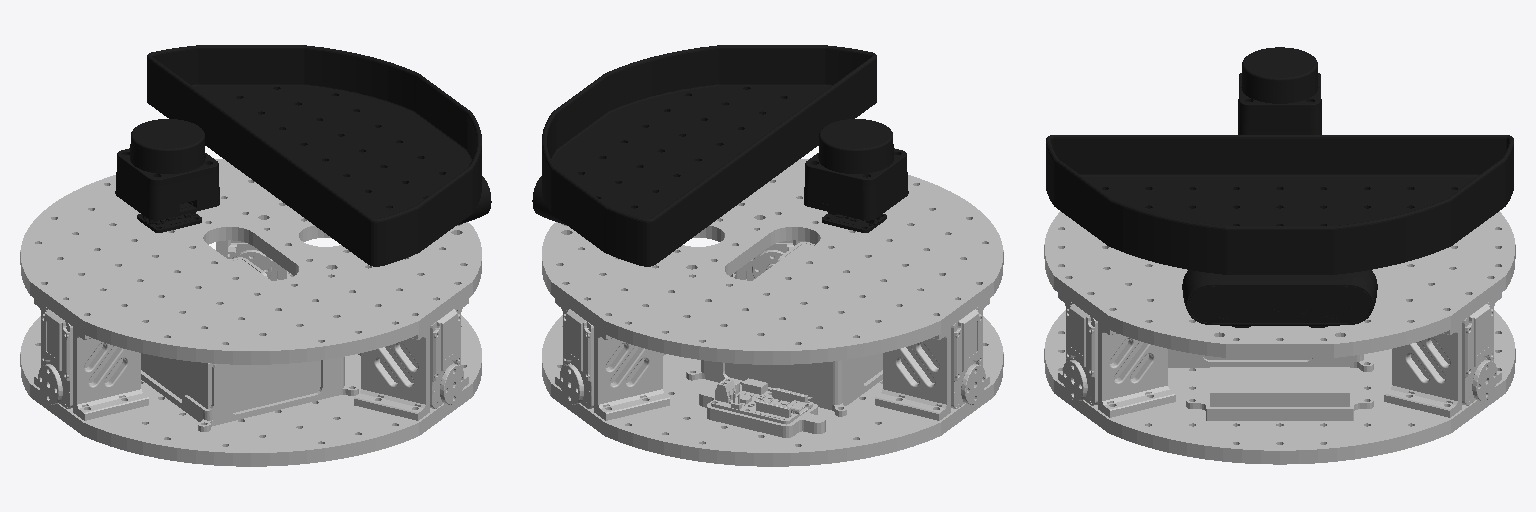
robot.urdf — lekiwi:
<?xml version="1.0" ?>
<!-- =================================================================================== -->
<!-- |    This document was autogenerated by xacro from base/base.urdf.xacro           | -->
<!-- |    EDITING THIS FILE BY HAND IS NOT RECOMMENDED                                 | -->
<!-- =================================================================================== -->
<robot name="lekiwi">
  <!-- camera sensor interfaces only when streaming is enabled -->
  <!-- Fusion mode: NDOF, NDOF_FMC_OFF, IMUPLUS -->
  <!-- [0-254]; 0 = disable proportional ACC -->
  <!-- Base operating mode -->
  <!-- Velocity mode -->
  <!-- Max hardware velocity in steps/s -->
  <!-- [0-254] -->
  <!-- 120° between wheels -->
  <!-- N⋅m (30 kgf⋅cm for STS3215) -->
  <!-- Omnidirectional Kinematics Calculations -->
  <!-- For 3-wheel omni drive: ω_i = (-sin(θ_i)·v_x + cos(θ_i)·v_y + R·ω_z) / r -->
  <!-- ROS 2 CONTROL -->
  <!-- System interface -->
  <ros2_control name="lekiwi_base" type="system">
    <hardware>
      <plugin>sts_hardware_interface/STSHardwareInterface</plugin>
      <!-- Serial communication parameters -->
      <param name="serial_port">/dev/ttySERVO</param>
      <param name="baud_rate">1000000</param>
      <param name="use_sync_write">true</param>
      <param name="enable_mock_mode">true</param>
      <!-- Proportional ACC: scale per-wheel acceleration so all wheels finish ramping in equal time -->
      <param name="proportional_acc_max">25</param>
    </hardware>
    <!-- Left wheel joint (Motor ID 7) -->
    <joint name="left_wheel_joint">
      <param name="motor_id">7</param>
      <param name="operating_mode">1</param>
      <!-- Motor-specific, model-dependent parameter (per joint so different STS models can share this bus) -->
      <param name="max_velocity_steps">3400</param>
      <param name="internal_max_vel">254</param>
      <param name="internal_max_acc">254</param>
      <param name="internal_acc_coeff">100</param>
      <param name="internal_control_period">20</param>
      <command_interface name="velocity"/>
      <state_interface name="position"/>
      <state_interface name="velocity"/>
      <state_interface name="effort"/>
      <state_interface name="voltage"/>
      <state_interface name="temperature"/>
      <state_interface name="current"/>
      <state_interface name="is_moving"/>
    </joint>
    <!-- Back wheel joint (Motor ID 8) -->
    <joint name="back_wheel_joint">
      <param name="motor_id">8</param>
      <param name="operating_mode">1</param>
      <!-- Motor-specific, model-dependent parameter (per joint so different STS models can share this bus) -->
      <param name="max_velocity_steps">3400</param>
      <param name="internal_max_vel">254</param>
      <param name="internal_max_acc">254</param>
      <param name="internal_acc_coeff">100</param>
      <param name="internal_control_period">20</param>
      <command_interface name="velocity"/>
      <state_interface name="position"/>
      <state_interface name="velocity"/>
      <state_interface name="effort"/>
      <state_interface name="voltage"/>
      <state_interface name="temperature"/>
      <state_interface name="current"/>
      <state_interface name="is_moving"/>
    </joint>
    <!-- Right wheel joint (Motor ID 9) -->
    <joint name="right_wheel_joint">
      <param name="motor_id">9</param>
      <param name="operating_mode">1</param>
      <!-- Motor-specific, model-dependent parameter (per joint so different STS models can share this bus) -->
      <param name="max_velocity_steps">3400</param>
      <param name="internal_max_vel">254</param>
      <param name="internal_max_acc">254</param>
      <param name="internal_acc_coeff">100</param>
      <param name="internal_control_period">20</param>
      <command_interface name="velocity"/>
      <state_interface name="position"/>
      <state_interface name="velocity"/>
      <state_interface name="effort"/>
      <state_interface name="voltage"/>
      <state_interface name="temperature"/>
      <state_interface name="current"/>
      <state_interface name="is_moving"/>
    </joint>
  </ros2_control>
  <ros2_control name="lekiwi_imu" type="sensor">
    <hardware>
      <plugin>bno055_hardware_interface/BNO055HardwareInterface</plugin>
      <param name="i2c_bus">1</param>
      <!-- I2C bus number (default: 1 → /dev/i2c-1) -->
      <param name="i2c_addr">28</param>
      <!-- I2C address in hex, no 0x prefix (default: 28 = 0x28) -->
      <param name="axis_remap">P1</param>
      <!-- Axis placement config: P0-P7 (default: P1) -->
      <param name="sensor_mode">NDOF</param>
      <!-- Fusion mode: NDOF, NDOF_FMC_OFF, IMUPLUS (default: NDOF) -->
      <param name="enable_mock_mode">true</param>
      <!-- Reuse the system-level mock flag -->
    </hardware>
    <sensor name="bno055">
      <!-- Orientation (quaternion, unit norm) -->
      <state_interface name="orientation.x"/>
      <state_interface name="orientation.y"/>
      <state_interface name="orientation.z"/>
      <state_interface name="orientation.w"/>
      <!-- Angular velocity (rad/s) -->
      <state_interface name="angular_velocity.x"/>
      <state_interface name="angular_velocity.y"/>
      <state_interface name="angular_velocity.z"/>
      <!-- Linear acceleration (m/s²), gravity-compensated -->
      <state_interface name="linear_acceleration.x"/>
      <state_interface name="linear_acceleration.y"/>
      <state_interface name="linear_acceleration.z"/>
    </sensor>
  </ros2_control>
  <!-- Standalone lekiwi base instantiation -->
  <link name="base_footprint"/>
  <!-- Material definitions (referenced by links below) -->
  <material name="base_light_grey">
    <color rgba="0.8 0.8 0.8 1.0"/>
  </material>
  <material name="base_charcoal">
    <color rgba="0.15 0.15 0.15 1.0"/>
  </material>
  <!-- Mount base_link to parent platform at specified origin -->
  <joint name="lekiwi_mount_joint" type="fixed">
    <parent link="base_footprint"/>
    <child link="base_link"/>
    <origin rpy="0 0 0" xyz="0 0 0.040639999999999996"/>
  </joint>
  <!-- Base link -->
  <link name="base_link">
    <visual>
      <origin rpy="0 0 4.71238898038469" xyz="0 0 0"/>
      <geometry>
        <mesh filename="../../meshes/lekiwi_base.stl"/>
      </geometry>
      <material name="base_light_grey">
        <color rgba="0.8 0.8 0.8 1.0"/>
      </material>
    </visual>
    <collision>
      <origin rpy="0 0 4.71238898038469" xyz="0 0 0"/>
      <geometry>
        <mesh filename="../../meshes/lekiwi_base.stl"/>
      </geometry>
    </collision>
    <inertial>
      <mass value="2.0"/>
      <inertia ixx="0.01" ixy="0.0" ixz="0.0" iyy="0.01" iyz="0.0" izz="0.02"/>
    </inertial>
  </link>
  <!-- Top plate link (same mesh frame as lekiwi_base.stl) -->
  <link name="plate_link">
    <visual>
      <origin rpy="0 0 4.71238898038469" xyz="0 0 0"/>
      <geometry>
        <mesh filename="../../meshes/container_plate.stl"/>
      </geometry>
      <material name="base_charcoal">
        <color rgba="0.15 0.15 0.15 1.0"/>
      </material>
    </visual>
    <collision>
      <origin rpy="0 0 4.71238898038469" xyz="0 0 0"/>
      <geometry>
        <mesh filename="../../meshes/container_plate.stl"/>
      </geometry>
    </collision>
    <inertial>
      <mass value="0.05"/>
      <inertia ixx="0.0001" ixy="0.0" ixz="0.0" iyy="0.0001" iyz="0.0" izz="0.0001"/>
    </inertial>
  </link>
  <!-- LD06 laser link -->
  <link name="laser_link">
    <visual>
      <origin rpy="1.5707963267948966 0 0" xyz="0 0 0"/>
      <geometry>
        <mesh filename="../../meshes/ld06_lidar.stl"/>
      </geometry>
      <material name="base_charcoal">
        <color rgba="0.15 0.15 0.15 1.0"/>
      </material>
    </visual>
    <collision>
      <origin rpy="1.5707963267948966 0 0" xyz="0 0 0"/>
      <geometry>
        <mesh filename="../../meshes/ld06_lidar.stl"/>
      </geometry>
    </collision>
    <inertial>
      <mass value="0.2"/>
      <inertia ixx="0.0001" ixy="0.0" ixz="0.0" iyy="0.0001" iyz="0.0" izz="0.0001"/>
    </inertial>
  </link>
  <!-- Laser frame -->
  <link name="laser_frame"/>
  <!-- Values measured off the real /scan topic, not the datasheet. gz_frame_id matches
         ldlidar_ros2_node's real "laser_frame" so TF resolves the same in sim (gz-sensors#306). -->
  <gazebo reference="laser_frame">
    <sensor name="lidar" type="gpu_lidar">
      <pose>0 0 0 0 0 0</pose>
      <topic>scan</topic>
      <gz_frame_id>laser_frame</gz_frame_id>
      <update_rate>10</update_rate>
      <always_on>true</always_on>
      <visualize>false</visualize>
      <lidar>
        <scan>
          <horizontal>
            <samples>452</samples>
            <resolution>1</resolution>
            <min_angle>0.0</min_angle>
            <max_angle>6.283185307179586</max_angle>
          </horizontal>
        </scan>
        <range>
          <min>0.02</min>
          <max>12.0</max>
          <resolution>0.01</resolution>
        </range>
      </lidar>
    </sensor>
  </gazebo>
  <!-- BNO055 IMU link -->
  <link name="imu_link">
    <visual>
      <origin rpy="0 0 0" xyz="0 0 0"/>
      <geometry>
        <mesh filename="../../meshes/bno055_imu.stl"/>
      </geometry>
      <material name="base_charcoal">
        <color rgba="0.15 0.15 0.15 1.0"/>
      </material>
    </visual>
    <collision>
      <origin rpy="0 0 0" xyz="0 0 0"/>
      <geometry>
        <mesh filename="../../meshes/bno055_imu.stl"/>
      </geometry>
    </collision>
    <inertial>
      <mass value="0.01"/>
      <inertia ixx="0.00001" ixy="0.0" ixz="0.0" iyy="0.00001" iyz="0.0" izz="0.00001"/>
    </inertial>
  </link>
  <!-- IMU frame -->
  <link name="imu_frame"/>
  <gazebo reference="imu_frame">
    <sensor name="imu" type="imu">
      <pose>0 0 0 0 0 0</pose>
      <topic>imu_sensor_broadcaster/imu</topic>
      <gz_frame_id>imu_frame</gz_frame_id>
      <update_rate>50</update_rate>
      <always_on>true</always_on>
      <visualize>false</visualize>
      <imu>
        <angular_velocity>
          <x>
            <noise type="gaussian">
              <mean>0.0</mean>
              <stddev>0.00316</stddev>
            </noise>
          </x>
          <y>
            <noise type="gaussian">
              <mean>0.0</mean>
              <stddev>0.00316</stddev>
            </noise>
          </y>
          <z>
            <noise type="gaussian">
              <mean>0.0</mean>
              <stddev>0.00316</stddev>
            </noise>
          </z>
        </angular_velocity>
        <linear_acceleration>
          <x>
            <noise type="gaussian">
              <mean>0.0</mean>
              <stddev>0.01414</stddev>
            </noise>
          </x>
          <y>
            <noise type="gaussian">
              <mean>0.0</mean>
              <stddev>0.01414</stddev>
            </noise>
          </y>
          <z>
            <noise type="gaussian">
              <mean>0.0</mean>
              <stddev>0.01414</stddev>
            </noise>
          </z>
        </linear_acceleration>
      </imu>
    </sensor>
  </gazebo>
  <!-- Respeaker flex mic link -->
  <link name="mic_link">
    <visual>
      <origin rpy="0 0 0" xyz="0 0 0"/>
      <geometry>
        <mesh filename="../../meshes/respeaker_flex_mic.stl"/>
      </geometry>
      <material name="base_charcoal">
        <color rgba="0.15 0.15 0.15 1.0"/>
      </material>
    </visual>
    <collision>
      <origin rpy="0 0 0" xyz="0 0 0"/>
      <geometry>
        <mesh filename="../../meshes/respeaker_flex_mic.stl"/>
      </geometry>
    </collision>
    <inertial>
      <mass value="0.05"/>
      <inertia ixx="0.00001" ixy="0.0" ixz="0.0" iyy="0.00001" iyz="0.0" izz="0.00001"/>
    </inertial>
  </link>
  <!-- Left wheel link -->
  <link name="left_wheel_link">
    <visual>
      <origin rpy="0 0 0" xyz="0 0 0"/>
      <geometry>
        <mesh filename="../../meshes/omni_wheel.stl" scale="1.0 1.0 1.0"/>
      </geometry>
      <material name="base_charcoal">
        <color rgba="0.15 0.15 0.15 1.0"/>
      </material>
    </visual>
    <collision>
      <origin rpy="0 0 0" xyz="0 0 0"/>
      <geometry>
        <mesh filename="../../meshes/omni_wheel.stl" scale="1.0 1.0 1.0"/>
      </geometry>
    </collision>
    <inertial>
      <mass value="0.1"/>
      <inertia ixx="0.001" ixy="0.0" ixz="0.0" iyy="0.001" iyz="0.0" izz="0.001"/>
    </inertial>
  </link>
  <!-- Back wheel link -->
  <link name="back_wheel_link">
    <visual>
      <origin rpy="0 0 0" xyz="0 0 0"/>
      <geometry>
        <mesh filename="../../meshes/omni_wheel.stl" scale="1.0 1.0 1.0"/>
      </geometry>
      <material name="base_charcoal">
        <color rgba="0.15 0.15 0.15 1.0"/>
      </material>
    </visual>
    <collision>
      <origin rpy="0 0 0" xyz="0 0 0"/>
      <geometry>
        <mesh filename="../../meshes/omni_wheel.stl" scale="1.0 1.0 1.0"/>
      </geometry>
    </collision>
    <inertial>
      <mass value="0.1"/>
      <inertia ixx="0.001" ixy="0.0" ixz="0.0" iyy="0.001" iyz="0.0" izz="0.001"/>
    </inertial>
  </link>
  <!-- Right wheel link -->
  <link name="right_wheel_link">
    <visual>
      <origin rpy="0 0 0" xyz="0 0 0"/>
      <geometry>
        <mesh filename="../../meshes/omni_wheel.stl" scale="1.0 1.0 1.0"/>
      </geometry>
      <material name="base_charcoal">
        <color rgba="0.15 0.15 0.15 1.0"/>
      </material>
    </visual>
    <collision>
      <origin rpy="0 0 0" xyz="0 0 0"/>
      <geometry>
        <mesh filename="../../meshes/omni_wheel.stl" scale="1.0 1.0 1.0"/>
      </geometry>
    </collision>
    <inertial>
      <mass value="0.1"/>
      <inertia ixx="0.001" ixy="0.0" ixz="0.0" iyy="0.001" iyz="0.0" izz="0.001"/>
    </inertial>
  </link>
  <!-- JOINTS -->
  <!-- top plate fixed joint -->
  <joint name="plate_joint" type="fixed">
    <parent link="base_link"/>
    <child link="plate_link"/>
    <origin rpy="0 0 0" xyz="0 0 -0.007"/>
  </joint>
  <!-- laser fixed joint -->
  <joint name="laser_joint" type="fixed">
    <parent link="base_link"/>
    <child link="laser_link"/>
    <origin rpy="0 0 0" xyz="-0.045042 0 0.0915"/>
  </joint>
  <!-- laser_frame fixed joint -->
  <joint name="laser_frame_joint" type="fixed">
    <parent link="laser_link"/>
    <child link="laser_frame"/>
    <origin rpy="0 0 0" xyz="0 0 0.027"/>
  </joint>
  <!-- IMU fixed joint -->
  <joint name="imu_joint" type="fixed">
    <parent link="base_link"/>
    <child link="imu_link"/>
    <origin rpy="0 0 0" xyz="-0.044 0 0.08"/>
  </joint>
  <!-- imu_frame fixed joint -->
  <joint name="imu_frame_joint" type="fixed">
    <parent link="imu_link"/>
    <child link="imu_frame"/>
    <origin rpy="0 0 0" xyz="0 0 0"/>
  </joint>
  <!-- Respeaker flex mic fixed joint -->
  <joint name="mic_joint" type="fixed">
    <parent link="base_link"/>
    <child link="mic_link"/>
    <origin rpy="0 0 0" xyz="-0.045042 0 0.10901"/>
  </joint>
  <!-- left wheel joint: 60 degrees anti-clockwise from +X at radius wheel_base_radius -->
  <joint name="left_wheel_joint" type="continuous">
    <parent link="base_link"/>
    <child link="left_wheel_link"/>
    <origin rpy="0 1.5707963267948966 1.0471975511965976" xyz="0.06611950000000001 0.11452233337105037 0.01036"/>
    <axis xyz="0 0 1"/>
    <limit effort="2.942" velocity="4.433204476989503"/>
  </joint>
  <!-- back wheel joint: 180 degrees anti-clockwise from +X at radius base_radius -->
  <joint name="back_wheel_joint" type="continuous">
    <parent link="base_link"/>
    <child link="back_wheel_link"/>
    <origin rpy="0 1.5707963267948966 3.141592653589793" xyz="-0.132239 1.6194606807244685e-17 0.01036"/>
    <axis xyz="0 0 1"/>
    <limit effort="2.942" velocity="4.433204476989503"/>
  </joint>
  <!-- right wheel joint: 300 degrees (or -60 degrees) anti-clockwise from +X at radius base_radius -->
  <joint name="right_wheel_joint" type="continuous">
    <parent link="base_link"/>
    <child link="right_wheel_link"/>
    <origin rpy="0 1.5707963267948966 -1.0471975511965976" xyz="0.06611950000000001 -0.11452233337105037 0.01036"/>
    <axis xyz="0 0 1"/>
    <limit effort="2.942" velocity="4.433204476989503"/>
  </joint>
  <material name="gemini2_charcoal">
    <color rgba="0.15 0.15 0.15 1.0"/>
  </material>
  <!-- Camera frame: x forward, z up; the mesh's rear (seat) face is 18.65 mm behind it -->
  <link name="gemini2_link"/>
  <joint name="gemini2_link_center_joint" type="fixed">
    <parent link="base_link"/>
    <child link="gemini2_link"/>
    <origin rpy="0 0 0" xyz="0.09365 0 0.0723"/>
  </joint>
  <!-- IMU frame (offset and orientation from the camera's own IMU) -->
  <link name="gemini2_imu_frame"/>
  <joint name="gemini2_imu_frame_joint" type="fixed">
    <parent link="gemini2_link"/>
    <child link="gemini2_imu_frame"/>
    <origin rpy="3.141592653589793 1.5707963267948966 0" xyz="-0.008 -0.037945 -0.00079"/>
  </joint>
  <link name="gemini2_link_model_origin">
    <visual>
      <origin rpy="0 0 0" xyz="0 0 0"/>
      <geometry>
        <mesh filename="../../meshes/gemini2.stl"/>
      </geometry>
      <material name="gemini2_charcoal">
        <color rgba="0.15 0.15 0.15 1.0"/>
      </material>
    </visual>
  </link>
  <joint name="gemini2_link_model_origin_joint" type="fixed">
    <parent link="gemini2_link"/>
    <child link="gemini2_link_model_origin"/>
    <origin rpy="1.5707963267948966 0 1.5707963267948966" xyz="0 0 0"/>
  </joint>
  <!-- Gazebo simulation: spawns controller_manager inside the gz_sim process, loading
       $(arg simulation_controllers). Inert (ignored) outside Gazebo, so this is safe to
       leave in place regardless of ros2_control_hardware_type. -->
  <gazebo>
    <plugin filename="gz_ros2_control-system" name="gz_ros2_control::GazeboSimROS2ControlPlugin">
      <parameters></parameters>
    </plugin>
  </gazebo>
</robot>

--- What the picture shows (computed from the rendered views, not written in the file) ---
3 views of the same robot in one strip: view 1: azimuth 30°, elevation 25°; view 2: azimuth 150°, elevation 25°; view 3: azimuth 270°, elevation 25° (orthographic).
Model lekiwi with 14 links and 13 joints (3 continuous, 10 fixed), rooted at base_footprint, posed all joints at 0.
Links seen in each view (by area): view 1: base_link, plate_link, laser_link, imu_link; view 2: base_link, plate_link, laser_link, imu_link; view 3: base_link, plate_link, gemini2_link_model_origin, laser_link.
Boxes of the visible links, x1,y1,x2,y2 form: base_link: (20,159,481,466); plate_link: (147,45,481,266); laser_link: (115,119,219,220); imu_link: (137,212,201,232); base_link: (542,159,1003,466); plate_link: (542,45,876,266); laser_link: (804,119,908,220); imu_link: (822,212,886,232); base_link: (1044,211,1515,464); plate_link: (1046,135,1513,274); gemini2_link_model_origin: (1182,270,1377,327); laser_link: (1238,47,1321,134).
Bounding box of the posed robot: 0.2175 × 0.2157 × 0.1318 m (x, y, z).
Meshes: 7 distinct files referenced, 5 mesh visuals loaded (5 binary STL); not drawn: 4 (reference not matched to a file when rendering).
